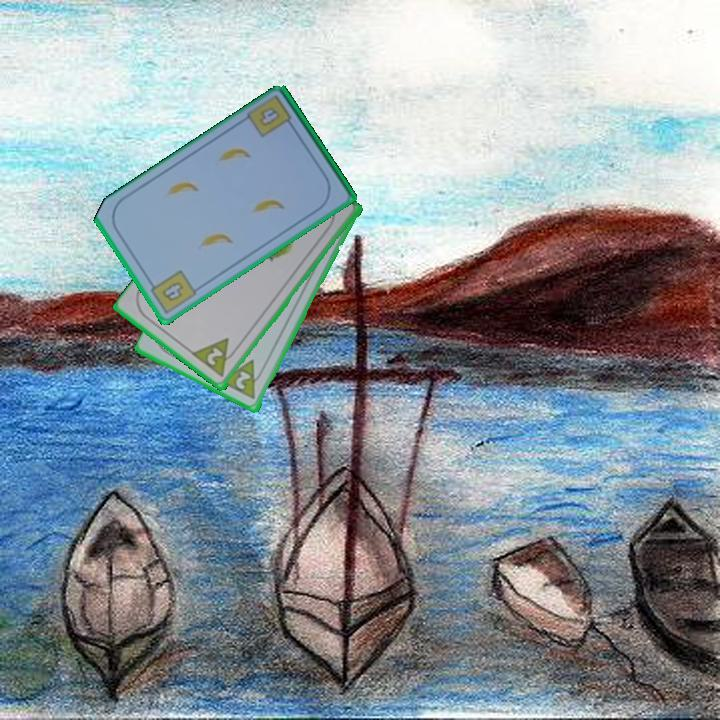2p: (203, 344, 226, 369), (232, 367, 254, 393)
4b: (145, 267, 199, 317), (255, 104, 283, 130)
